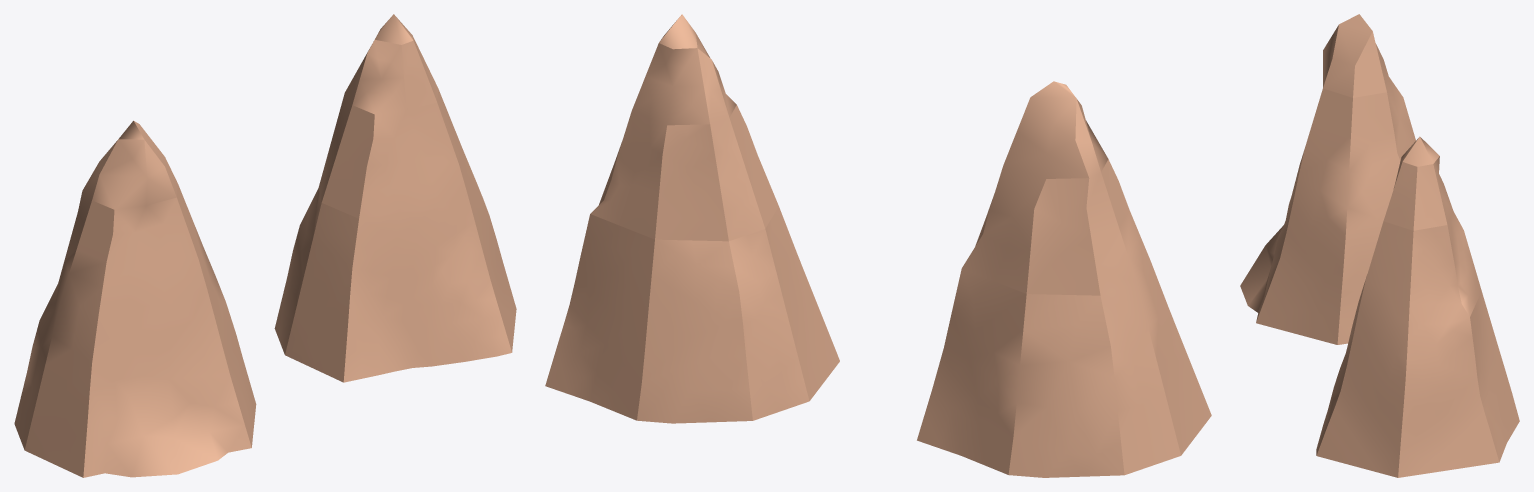
File: SM_Pike1_LOD0.fbx
3 views of the same model, side by side, from view 1: azimuth 30°, elevation 25°; view 2: azimuth 150°, elevation 25°; view 3: azimuth 270°, elevation 25° (orthographic). The views are drawn at different scales.
Parts seen in each view (by area): view 1: SM_Boulder2_LOD2, SM_Boulder2_LOD1; view 2: SM_Boulder2_LOD1, SM_Boulder2_LOD2; view 3: SM_Boulder2_LOD1, SM_Boulder2_LOD2.
Boxes of the visible parts, x1,y1,x2,y2 form: SM_Boulder2_LOD2: (14, 120, 256, 477); SM_Boulder2_LOD1: (274, 14, 516, 382); SM_Boulder2_LOD1: (545, 14, 839, 423); SM_Boulder2_LOD2: (917, 81, 1211, 477); SM_Boulder2_LOD1: (1316, 136, 1519, 477); SM_Boulder2_LOD2: (1240, 14, 1415, 344).
Size of the model in its own units: 17.31 by 10.08 by 8.77.
